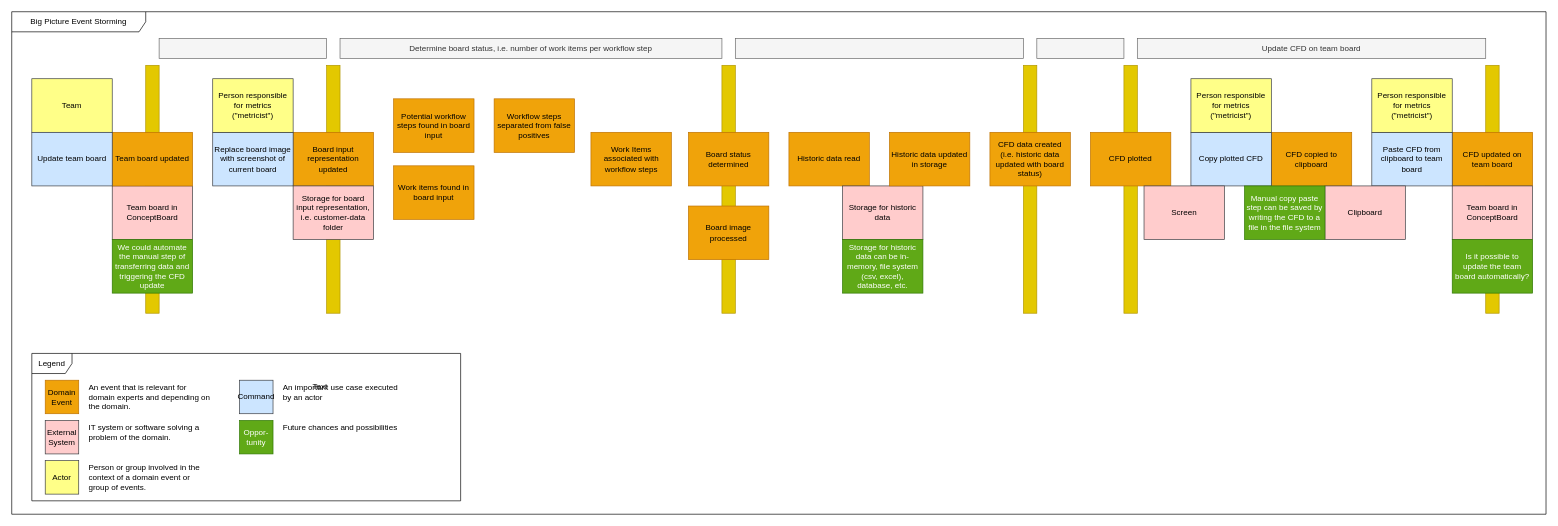
Some shapes in this 1558 by 526 pixel diagram are drawn without their labels. Here are the shapes that lost their labels. From the top down, the centre of each, then its label:
the point at 242,48: Initiate updating the CFD
the point at 879,48: Add board status to historic data
the point at 1080,48: Plot CFD
